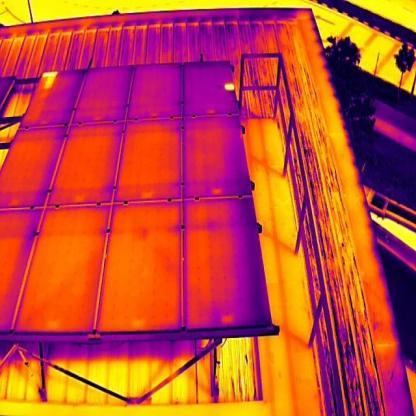anomaly: (40, 69, 59, 90), (222, 81, 237, 93)
